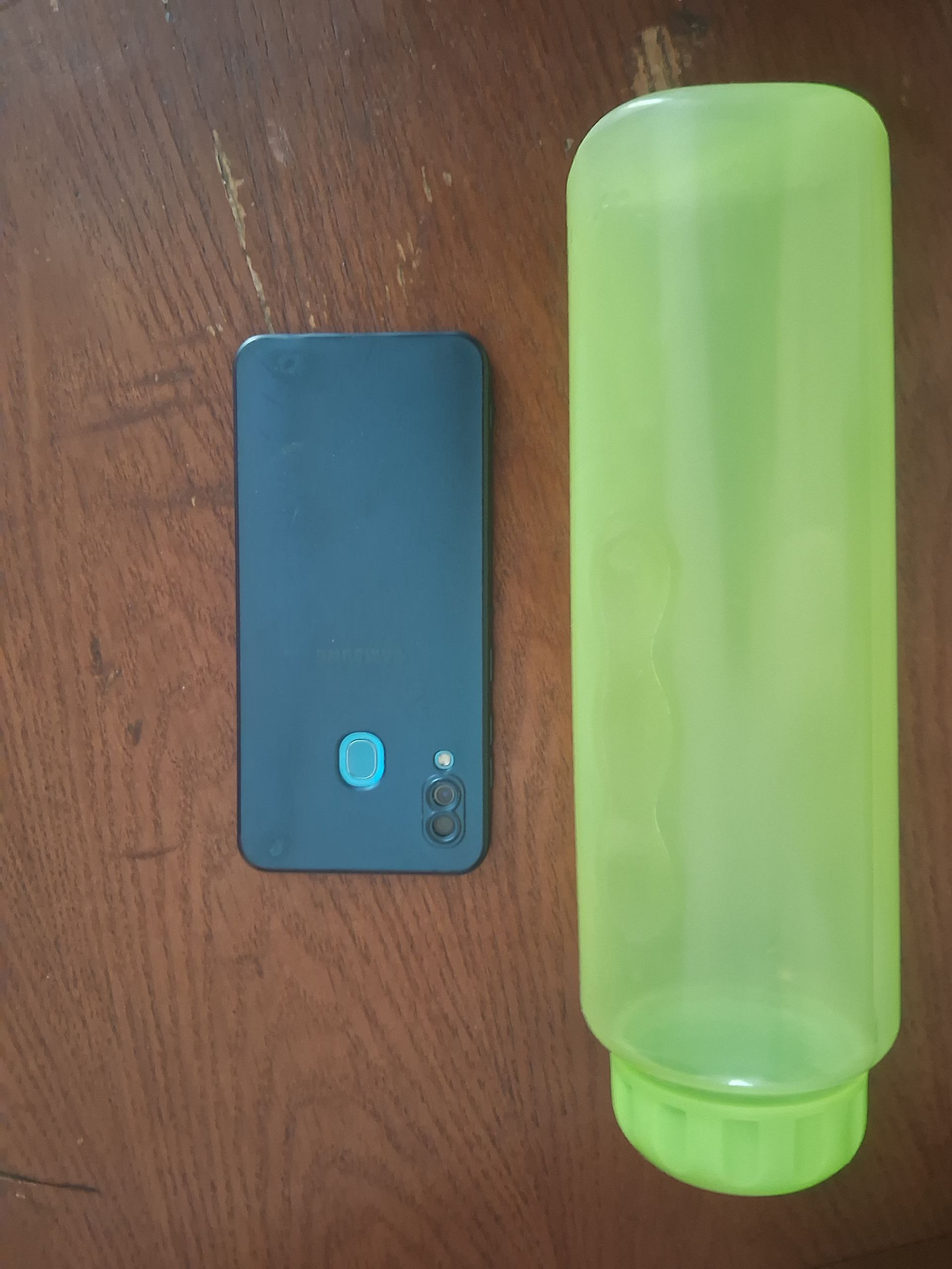Smart_phone: (207, 311, 516, 887)
Water_bottle: (551, 74, 923, 1209)
